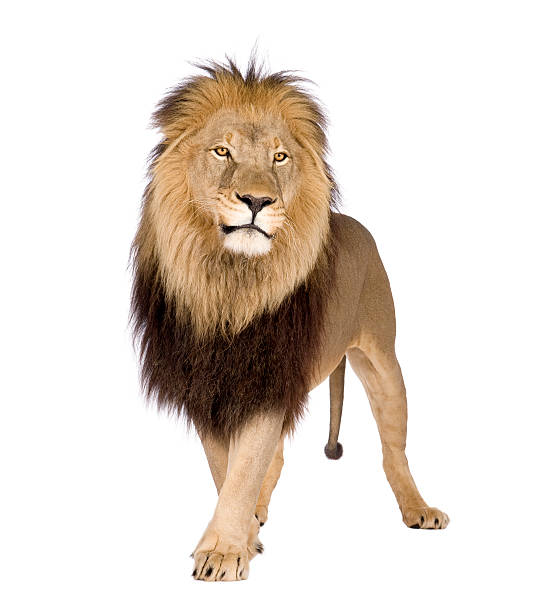lion: (85, 41, 366, 444)
